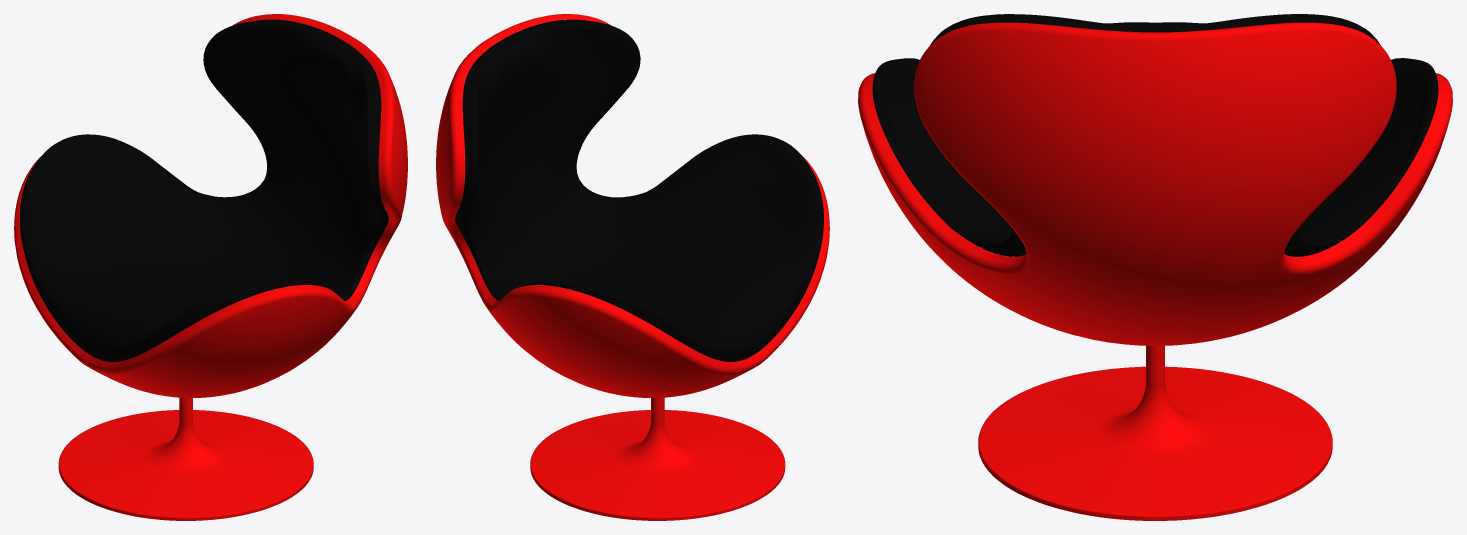
The model's file is giovannetti2.glb.
3 views of the same model, side by side, from view 1: azimuth 30°, elevation 25°; view 2: azimuth 150°, elevation 25°; view 3: azimuth 270°, elevation 25° (orthographic). The views are drawn at different scales.
Visible parts, largest first — view 1: stitch_result_stitch all (×2); view 2: stitch_result_stitch all (×2); view 3: stitch_result_stitch all (×2).
Boxes of the visible parts, x1=… form: stitch_result_stitch all (×2): x1=14, y1=14, x2=407, y2=520; stitch_result_stitch all (×2): x1=436, y1=14, x2=829, y2=520; stitch_result_stitch all (×2): x1=858, y1=14, x2=1452, y2=520.
Bounding box in the file's own units: 35.04 × 42.23 × 42.93.
